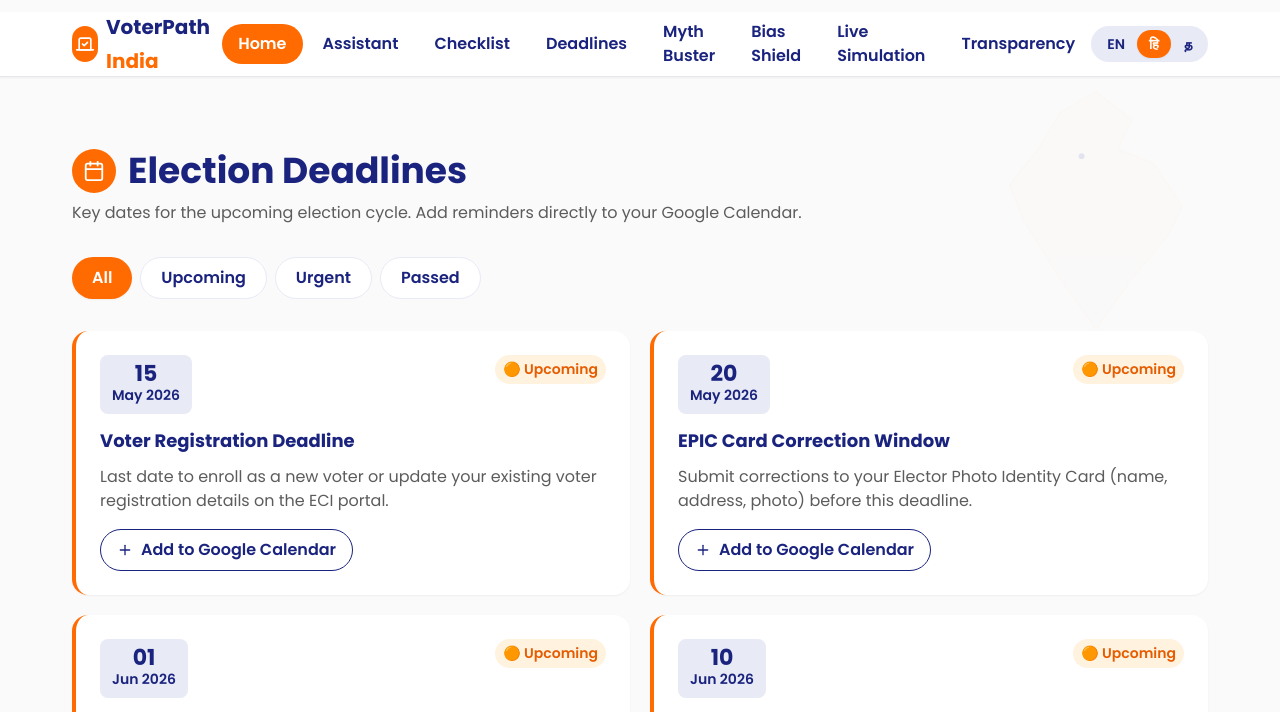
it: Phase 3 — Google Calendar button › shows "Added ✓" after successful calendar event creation
Step 1. Click the button "Add to Google Calendar" below "Voter Registration Deadline" → (227, 550), box [100,529,353,571]
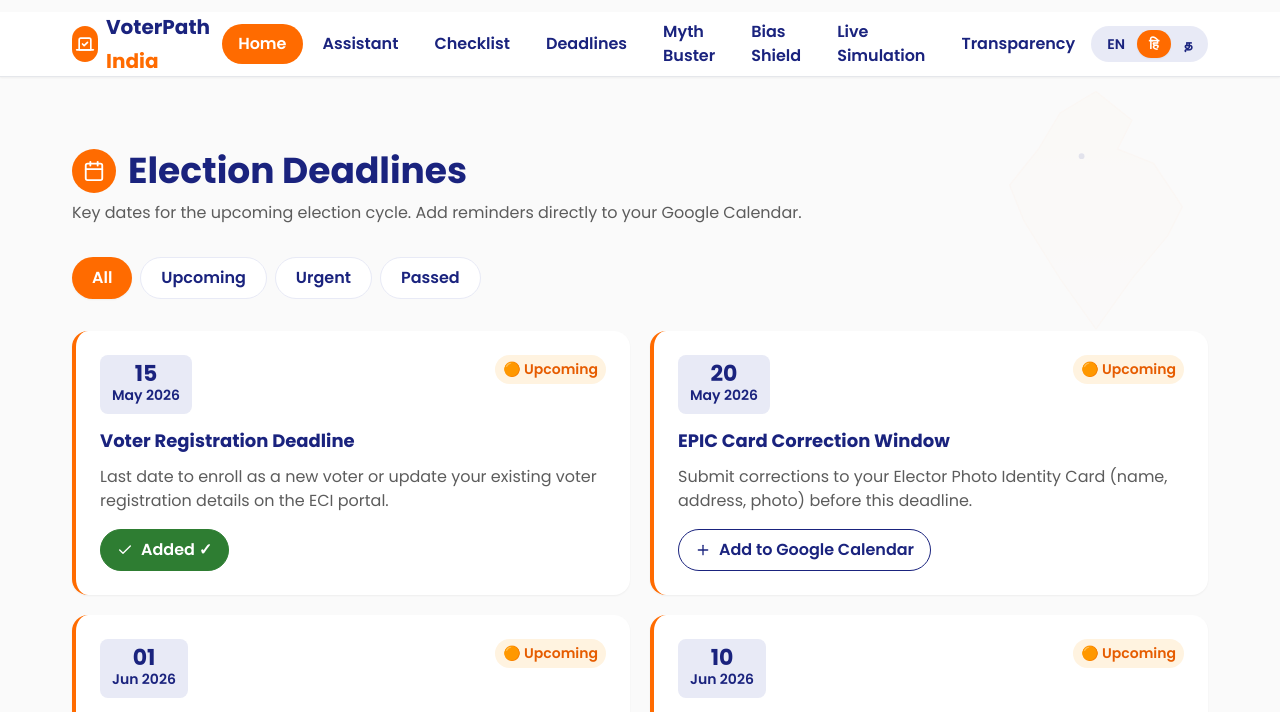
Result: the button "Added ✓" is shown at [100,529,229,571]
